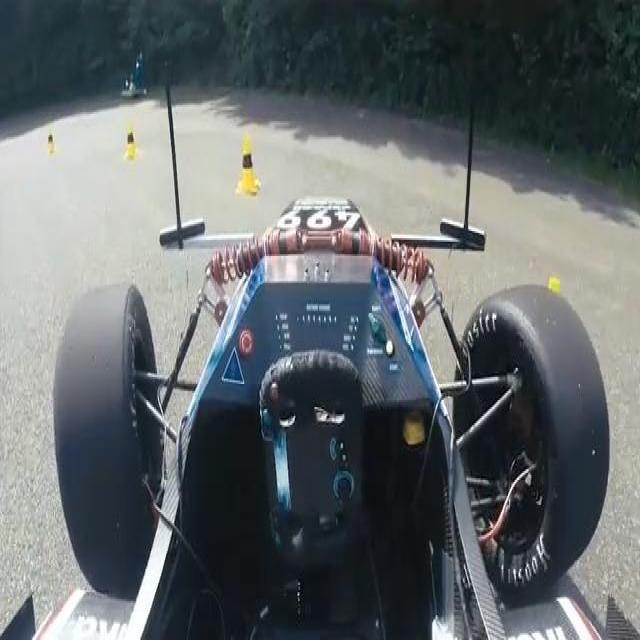yellow_cone: (236, 137, 262, 197), (124, 123, 138, 160)
